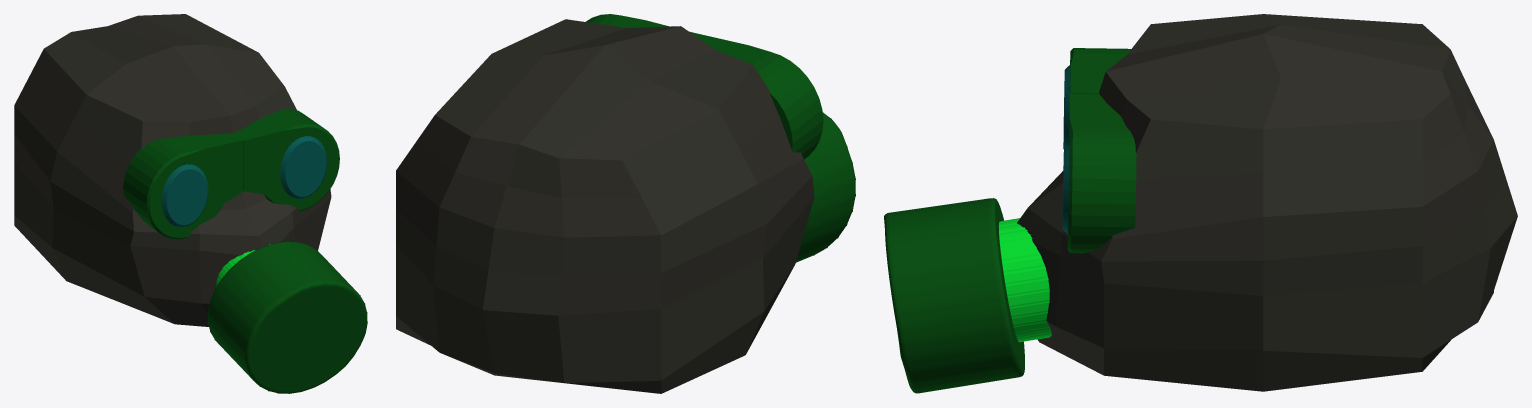
The model's file is gas mask.fbx.
3 renders of one model, left to right at view 1: azimuth 30°, elevation 25°; view 2: azimuth 150°, elevation 25°; view 3: azimuth 270°, elevation 25°, orthographic. The views are drawn at different scales.
Parts seen in each view (by area): view 1: Cube, Цилиндр, Цилиндр.002, Цилиндр.004, Цилиндр.003, Цилиндр.005; view 2: Cube, Цилиндр, Цилиндр.002, Цилиндр.004; view 3: Cube, Цилиндр, Цилиндр.004, Цилиндр.001, Цилиндр.002, Цилиндр.005.
Boxes of the visible parts, x1=… form: Cube: x1=14, y1=14, x2=331, y2=326; Цилиндр: x1=207, y1=241, x2=367, y2=393; Цилиндр.002: x1=123, y1=132, x2=243, y2=239; Цилиндр.004: x1=234, y1=108, x2=339, y2=210; Цилиндр.003: x1=161, y1=164, x2=208, y2=227; Цилиндр.005: x1=280, y1=136, x2=327, y2=198; Cube: x1=396, y1=19, x2=814, y2=393; Цилиндр: x1=796, y1=112, x2=855, y2=262; Цилиндр.002: x1=694, y1=33, x2=823, y2=159; Цилиндр.004: x1=586, y1=14, x2=695, y2=34; Cube: x1=1017, y1=14, x2=1517, y2=391; Цилиндр: x1=884, y1=198, x2=1024, y2=393; Цилиндр.004: x1=1067, y1=93, x2=1136, y2=253; Цилиндр.001: x1=999, y1=218, x2=1051, y2=342; Цилиндр.002: x1=1070, y1=48, x2=1130, y2=94; Цилиндр.005: x1=1062, y1=144, x2=1069, y2=233.
Size of the model in its own units: 243 by 242 by 398.
